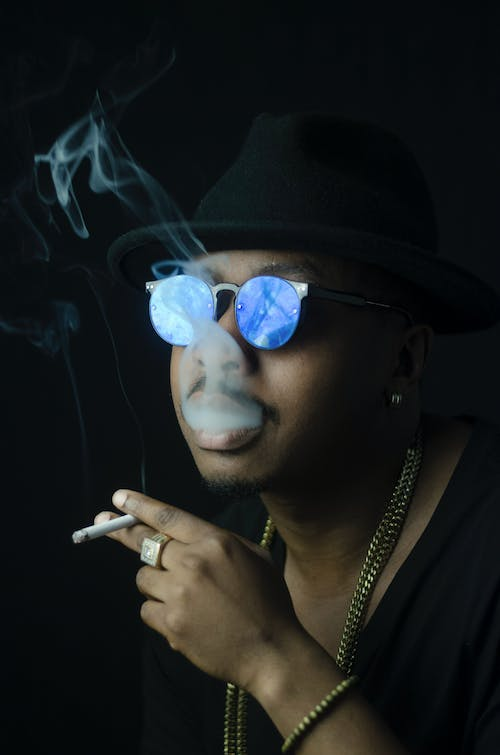cigarette: (68, 511, 141, 548)
